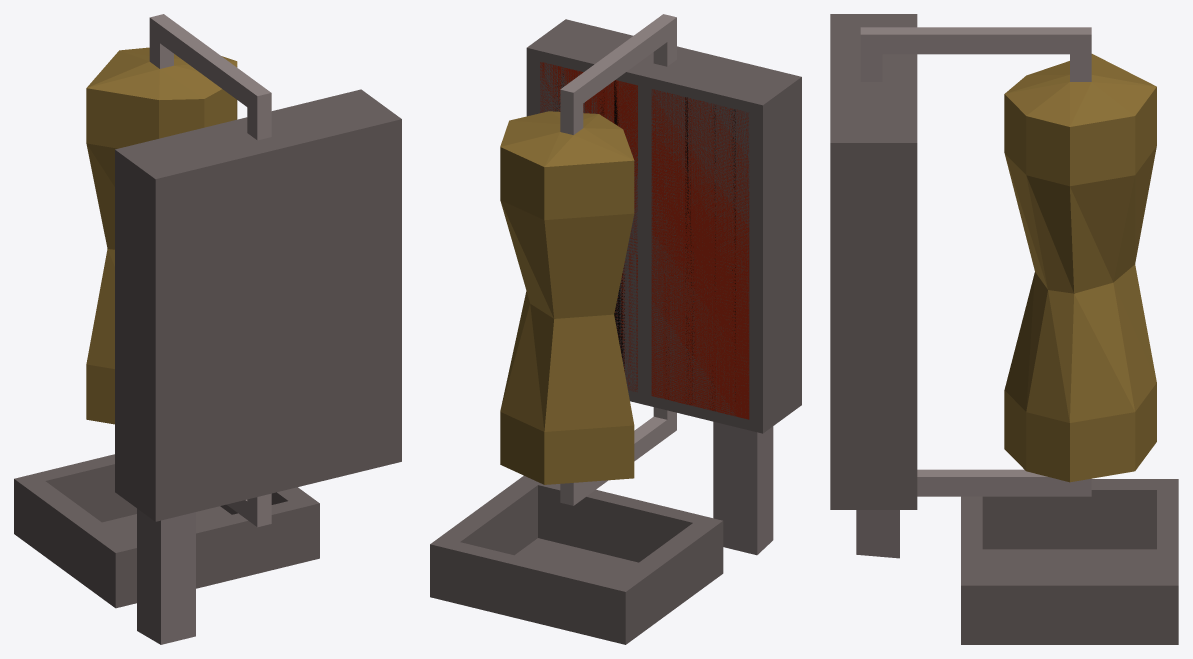
The model's file is obj_kebab_0.obj.
3 renders of one model, left to right at view 1: azimuth 30°, elevation 25°; view 2: azimuth 150°, elevation 25°; view 3: azimuth 270°, elevation 25°, orthographic. The views are drawn at different scales.
Size of the model in its own units: 0.5469 by 1.11 by 0.625.
